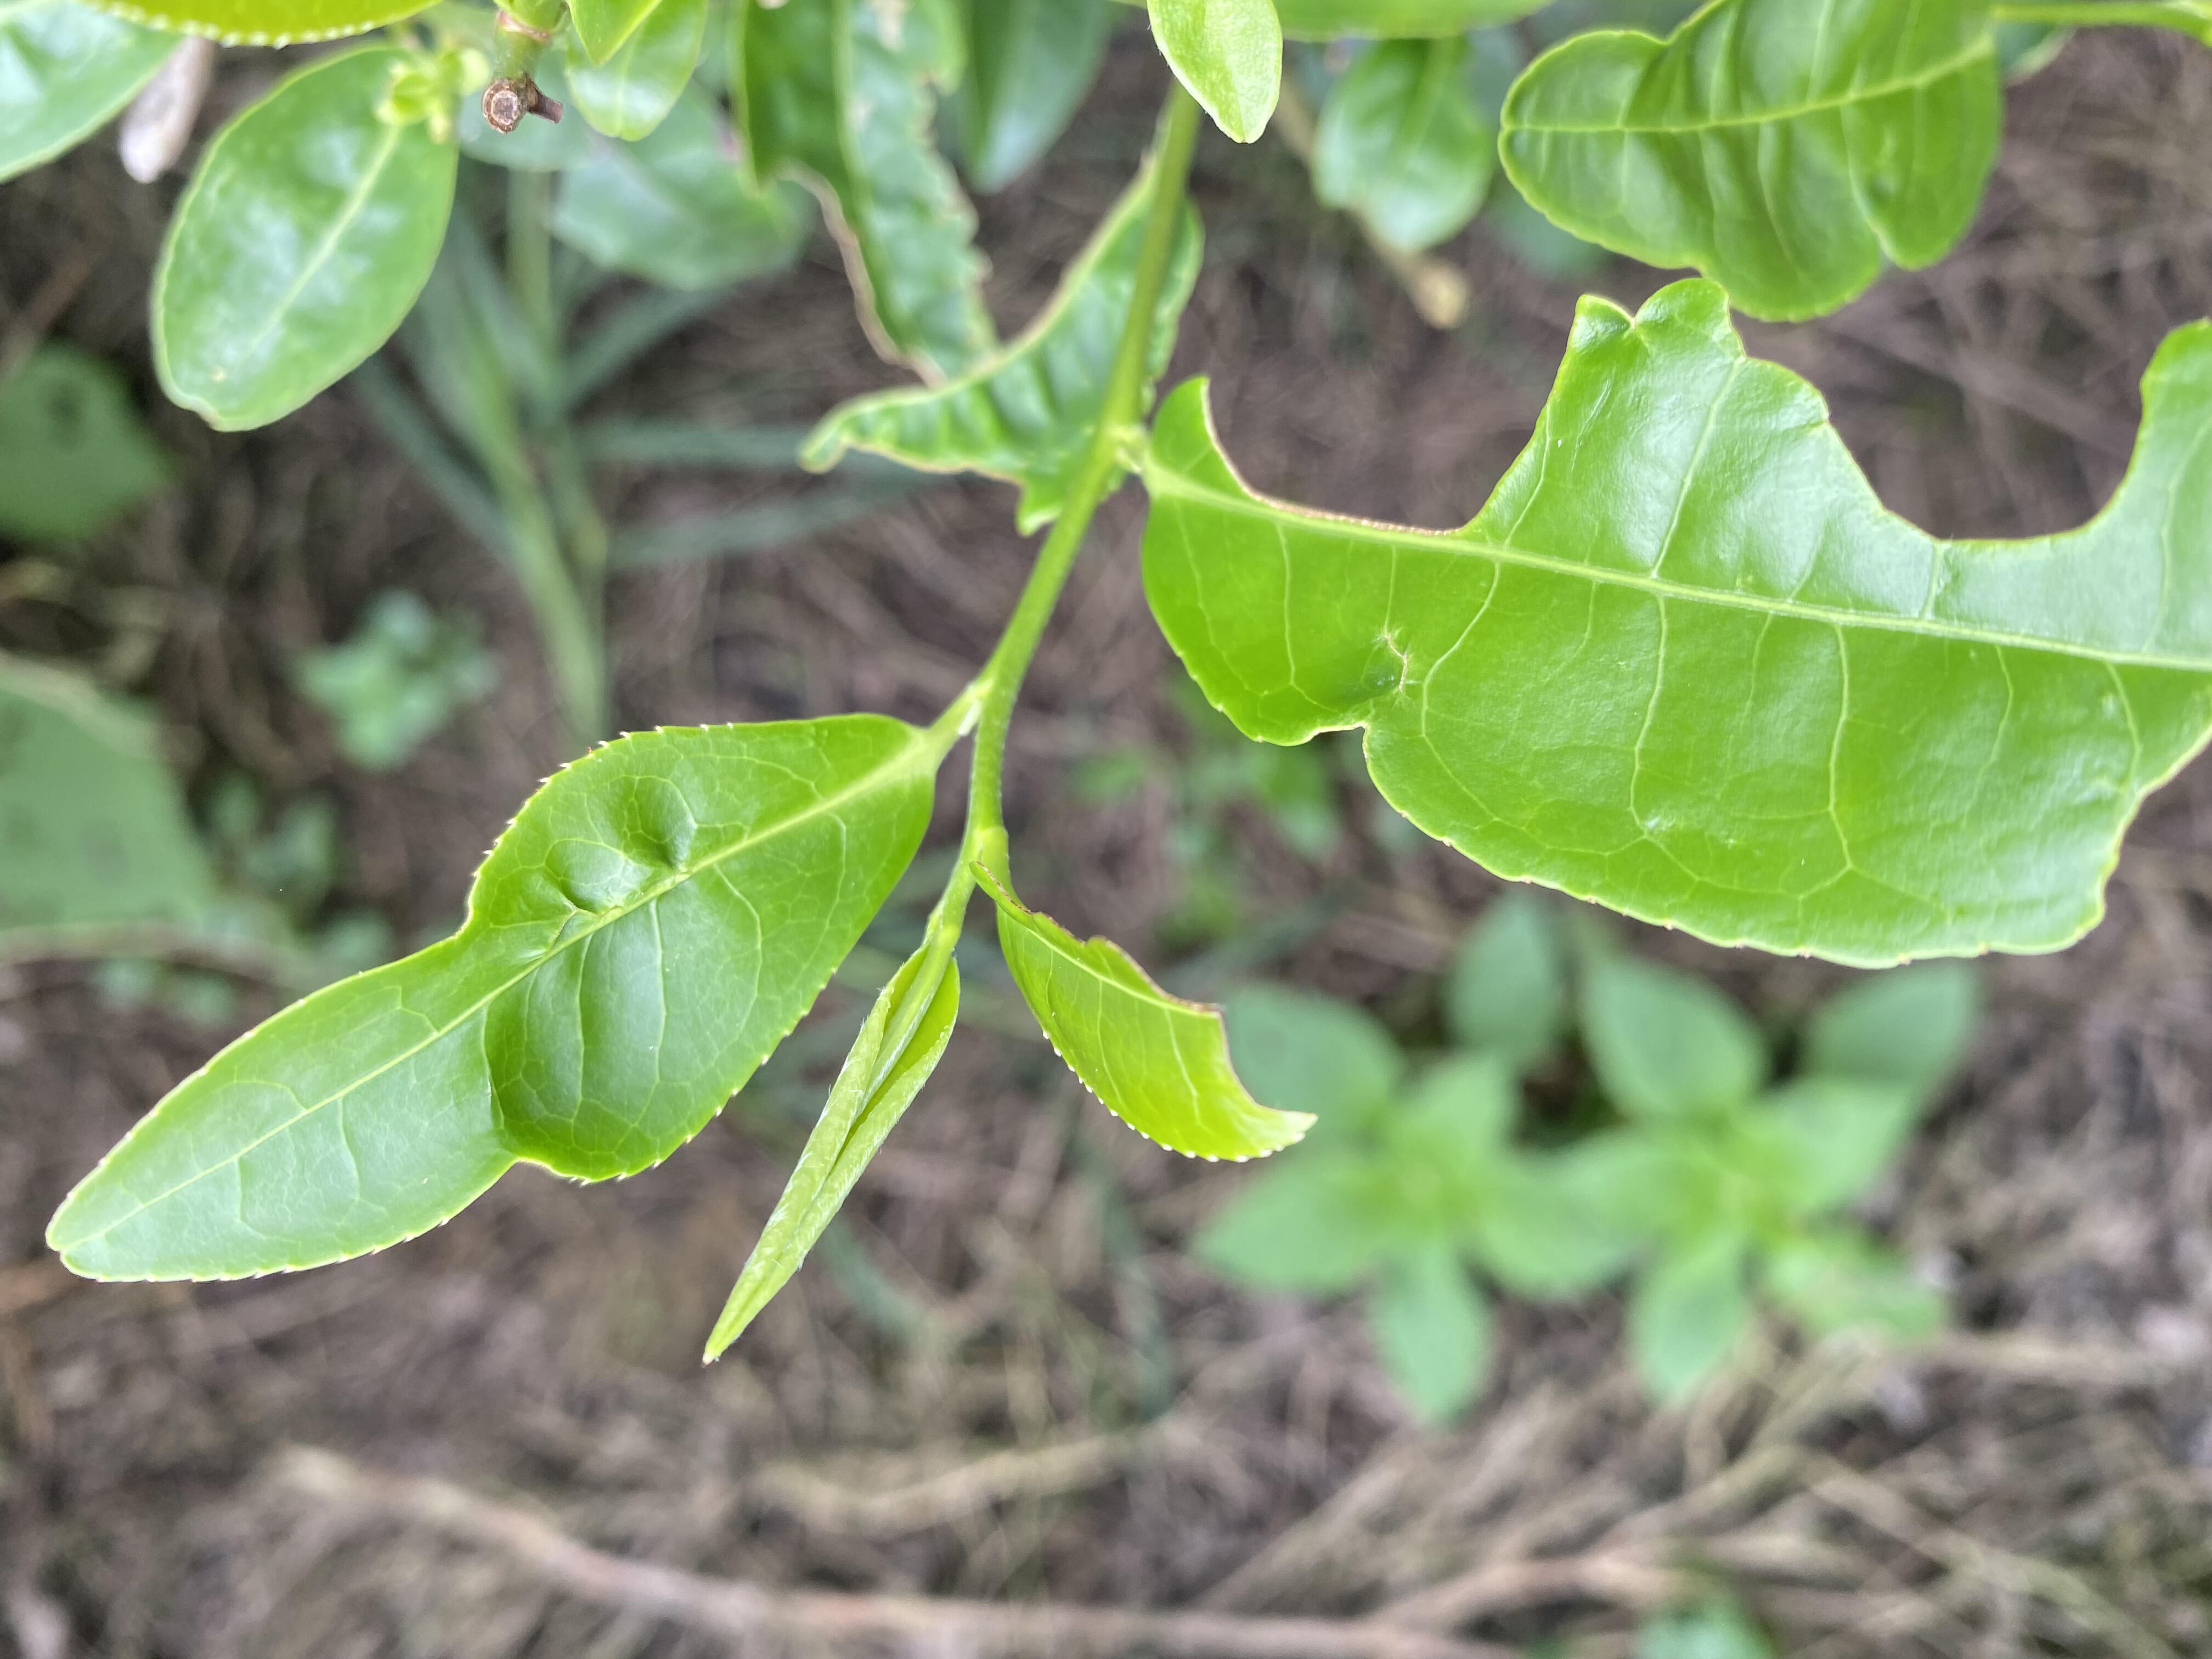chihuo_high: (1139, 275, 2207, 971), (798, 155, 1209, 535), (967, 856, 1318, 1164), (735, 3, 1005, 383)
healthy: (44, 713, 937, 1290)
